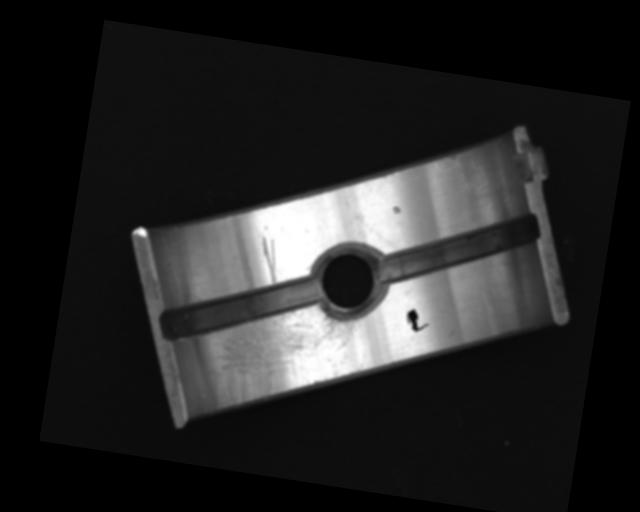blot: (404, 306, 431, 334)
bruise: (390, 204, 403, 215)
gap: (372, 192, 542, 306), (157, 256, 321, 361)
hole: (306, 240, 391, 326)
nick: (254, 234, 282, 286)
scratch: (208, 297, 365, 430)
